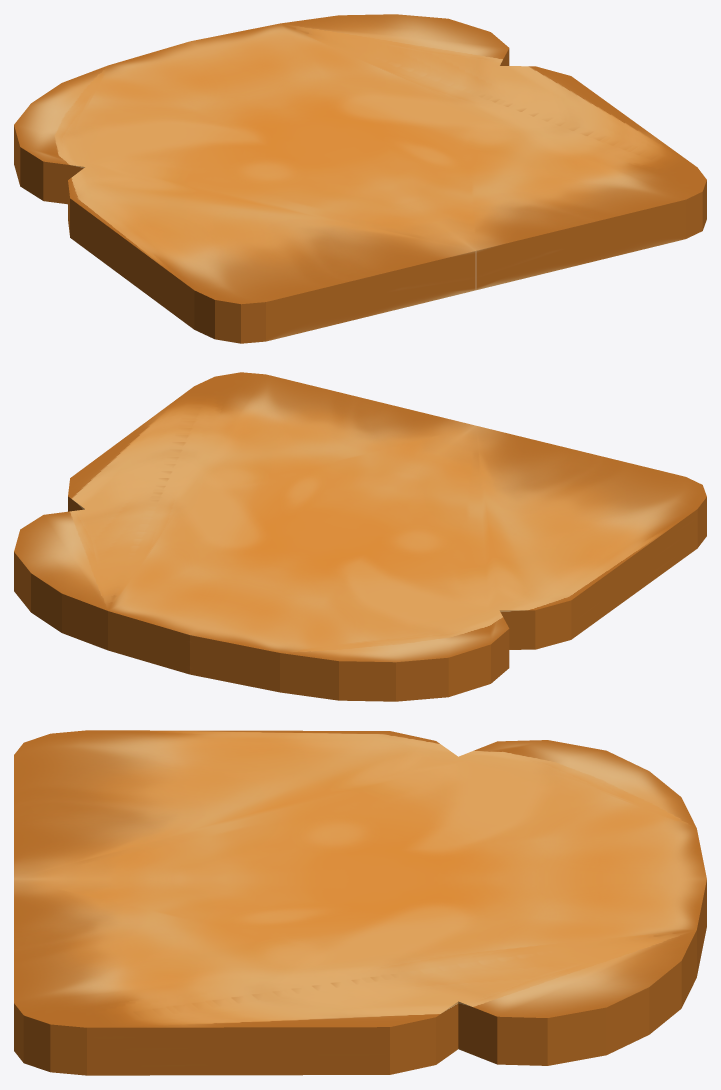
Rendered from bread.fbx.
3 views of the same model, one above another, from view 1: azimuth 30°, elevation 25°; view 2: azimuth 150°, elevation 25°; view 3: azimuth 270°, elevation 25° (orthographic). The views are drawn at different scales.
Visible parts, largest first — view 1: Cube; view 2: Cube; view 3: Cube.
Boxes of the visible parts, left/top/right/bottom form: Cube: left=14, top=14, right=706, bottom=343; Cube: left=14, top=372, right=706, bottom=701; Cube: left=14, top=730, right=706, bottom=1075.
Bounding box in the file's own units: 800 × 60 × 788.
1 material, 1 textured.
